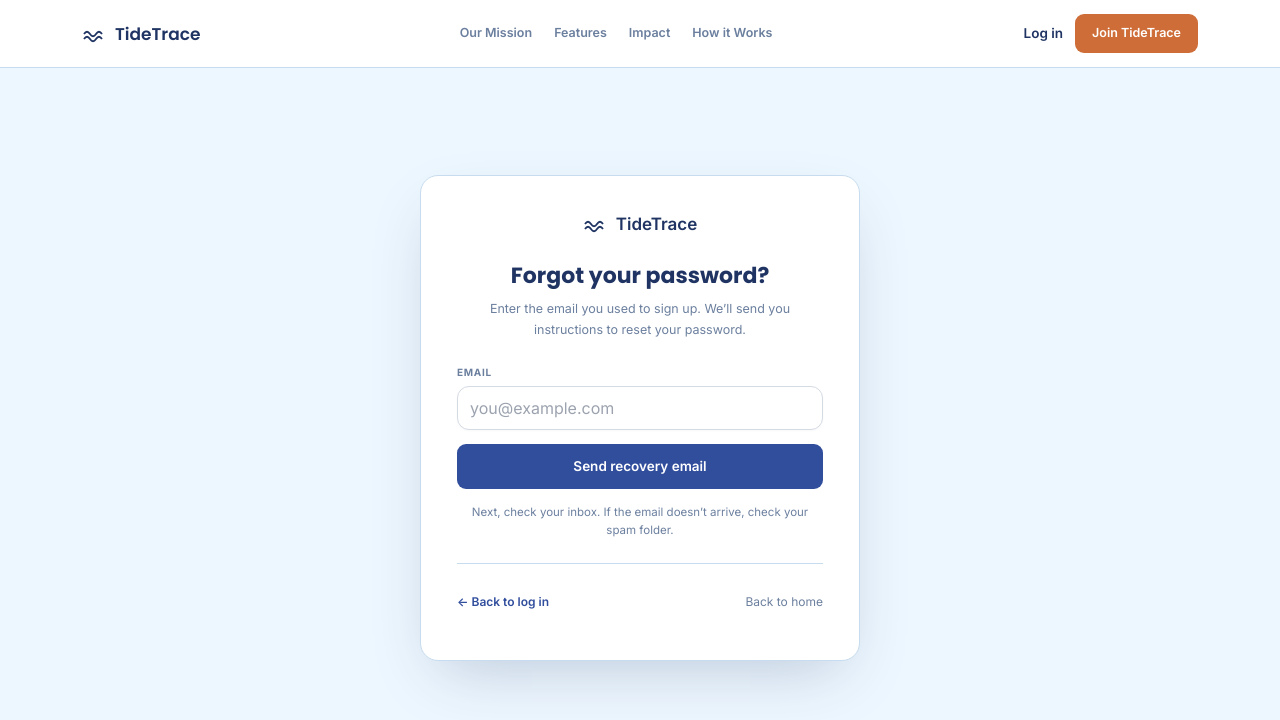
it: supports recovery codes and verifies their type before enabling password entry
The image size is (1280, 720).
Type "admin@example.test" into the field labelled "Email".
click(640, 408); type("admin@example.test")  # box [457, 386, 823, 430]
Click the button "Send recovery email".
click(640, 466)  # box [457, 444, 823, 489]
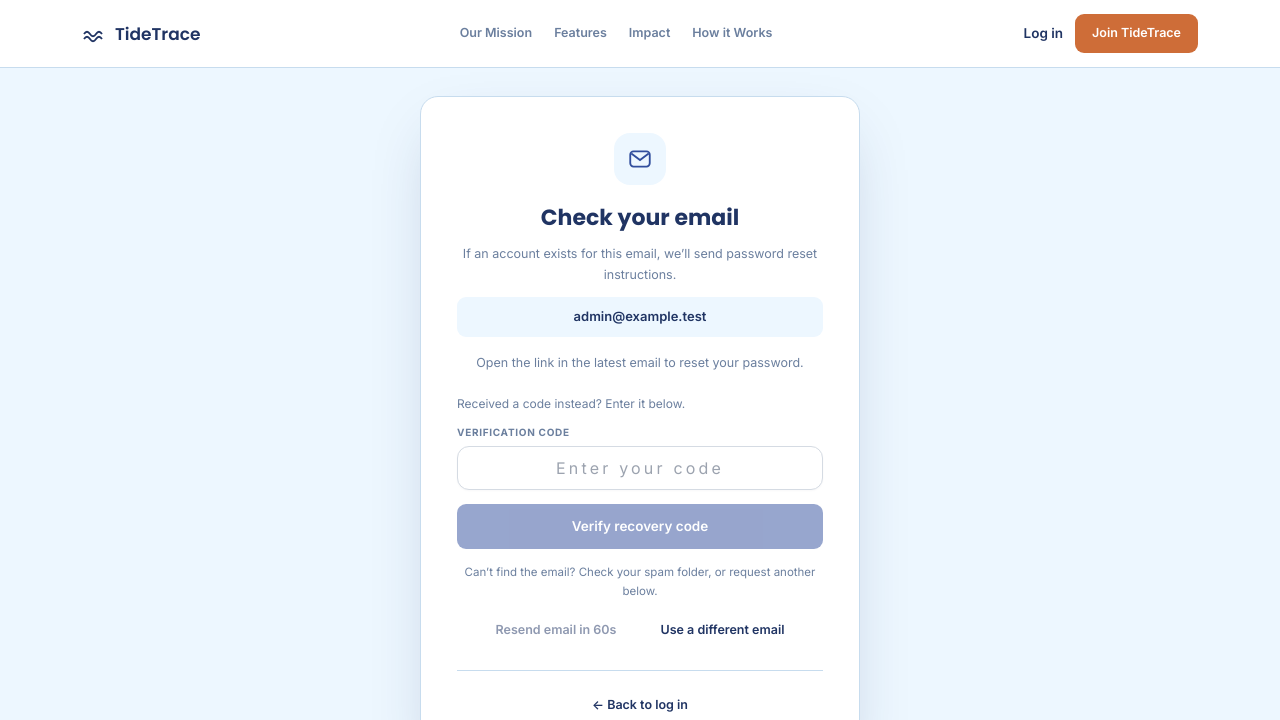
Type "123456" into the field labelled "Verification code".
click(640, 468); type("123456")  # box [457, 446, 823, 490]
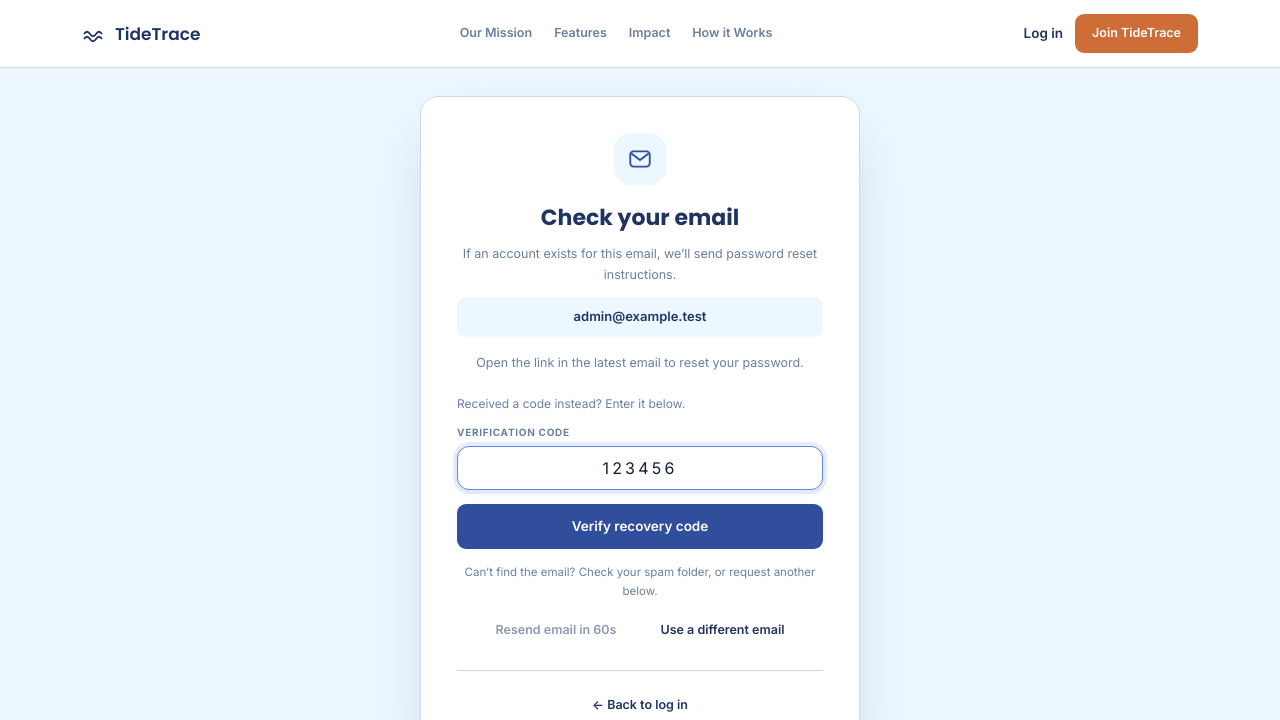
Click the button "Verify recovery code".
click(640, 527)  # box [457, 504, 823, 549]
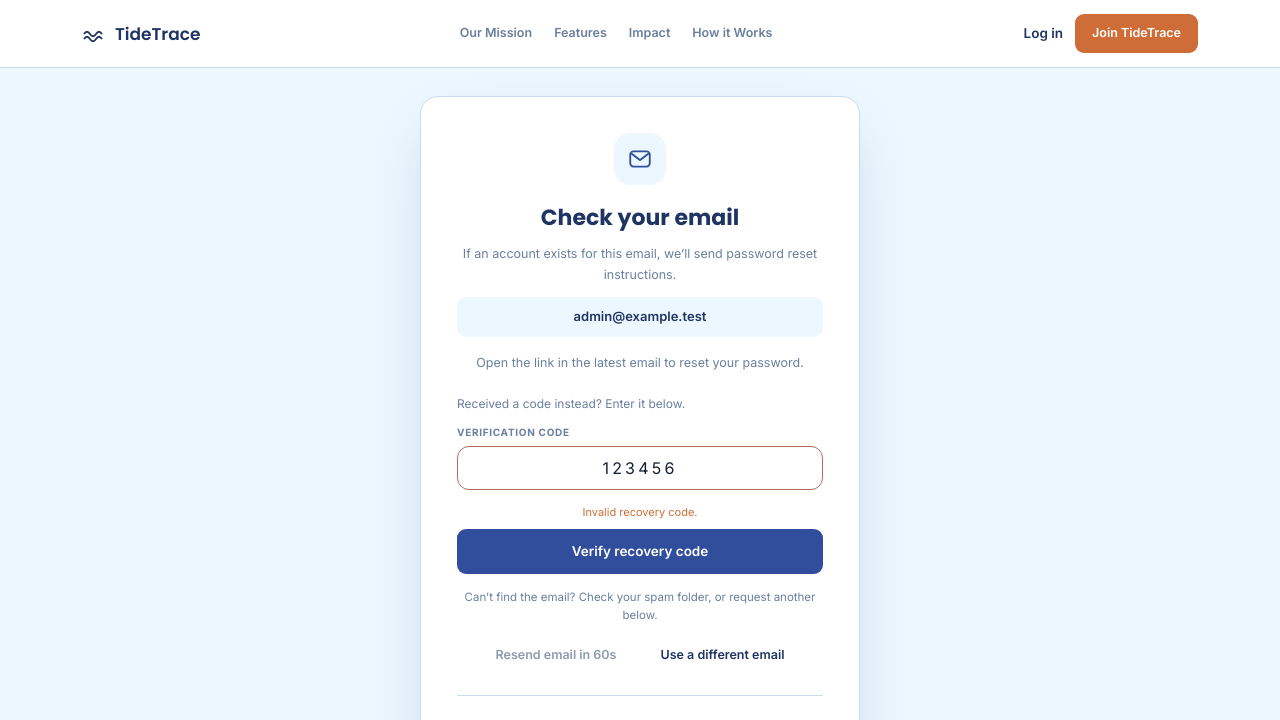
Expected: the field labelled "New password" is not shown
Result: the message shows "Invalid recovery code" at [582, 505, 698, 519]
Click the button "Verify recovery code".
click(640, 551)  # box [457, 529, 823, 574]
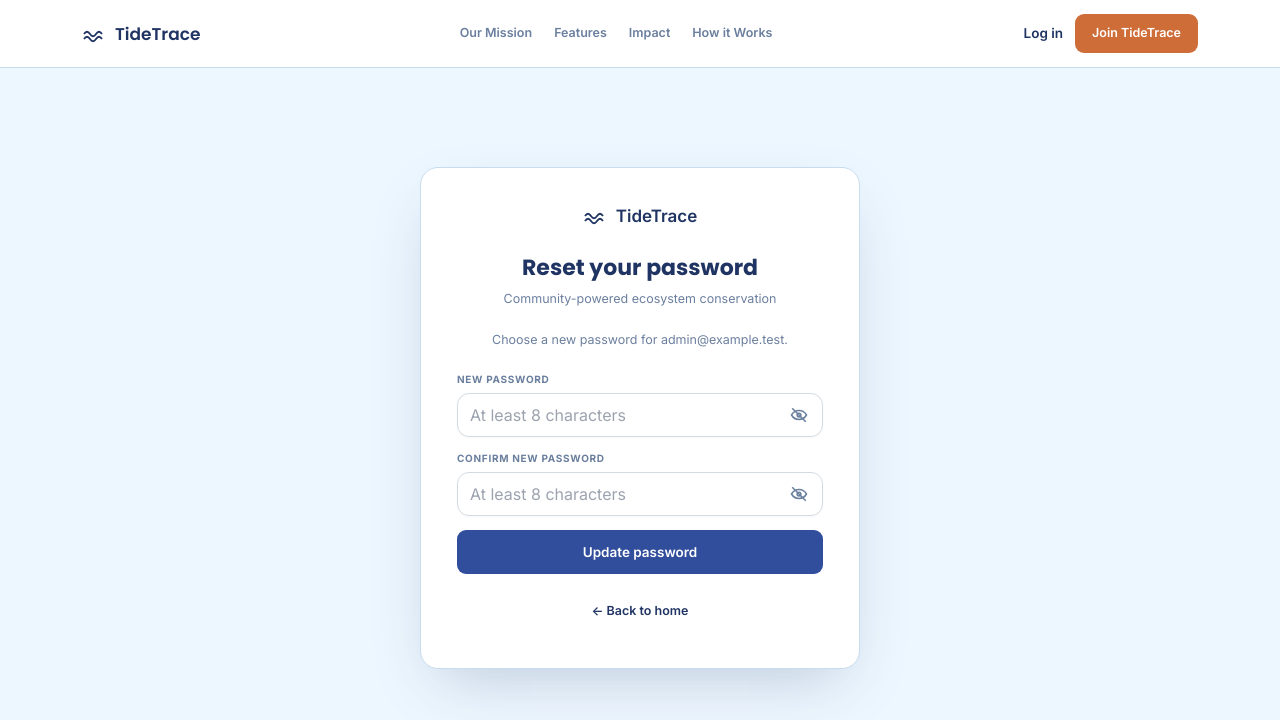
Result: the password field labelled "New password" is shown
Type "a-new-strong-password-42" into the password field labelled "New password".
click(640, 414); type("a-new-strong-password-42")  # box [457, 392, 823, 436]
Type "a-new-strong-password-42" into the password field labelled "Confirm new password".
click(640, 494); type("a-new-strong-password-42")  # box [457, 472, 823, 516]
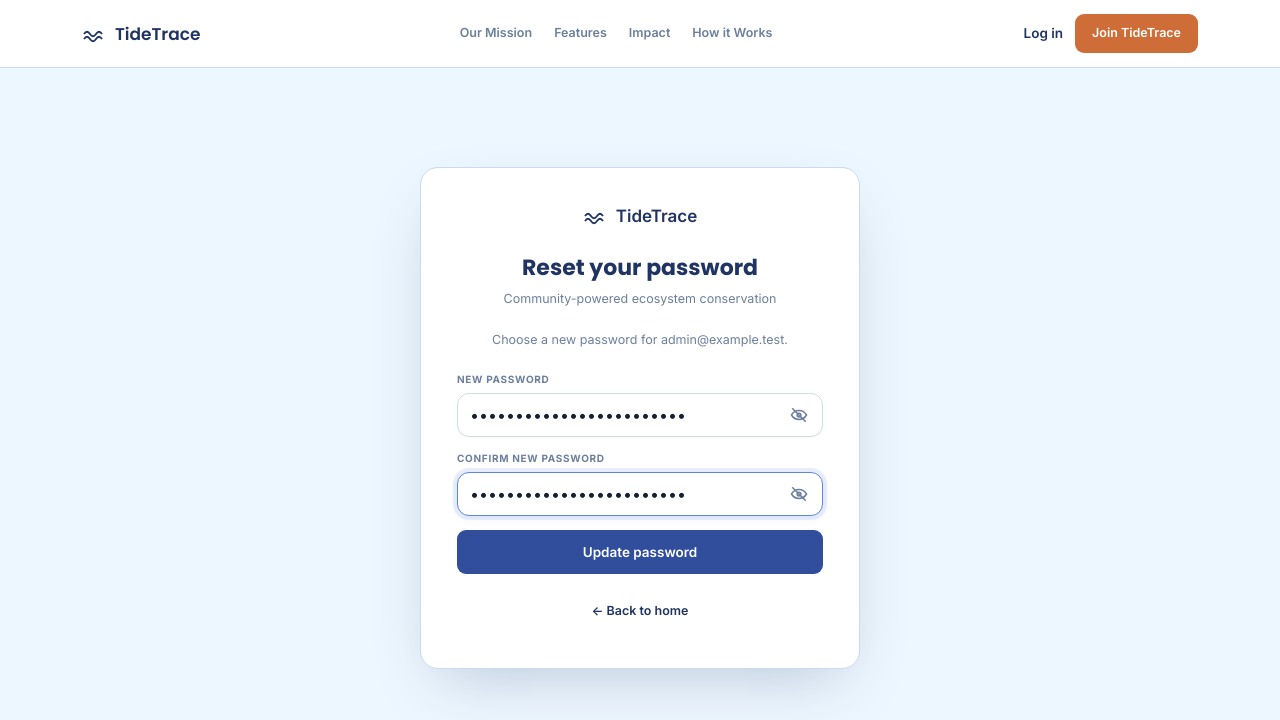
Click the button "Update password".
click(640, 552)  # box [457, 530, 823, 574]
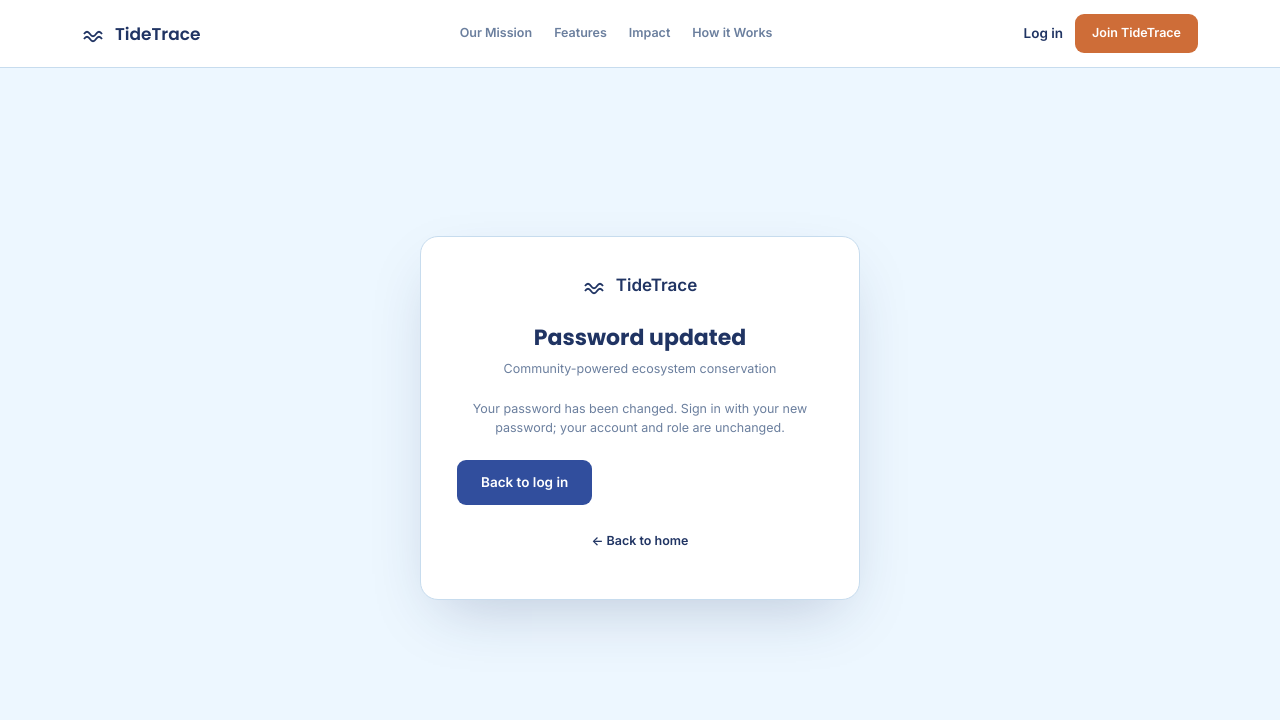
Result: the heading "Password updated" is shown at [534, 322, 746, 353]
